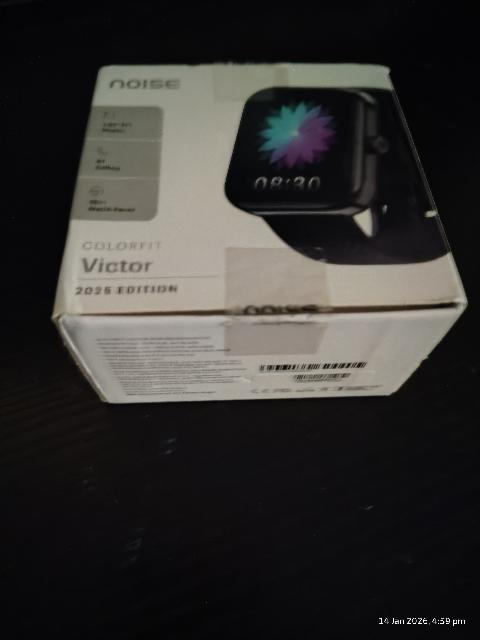noise victor smartwatch: (61, 61, 452, 390)
